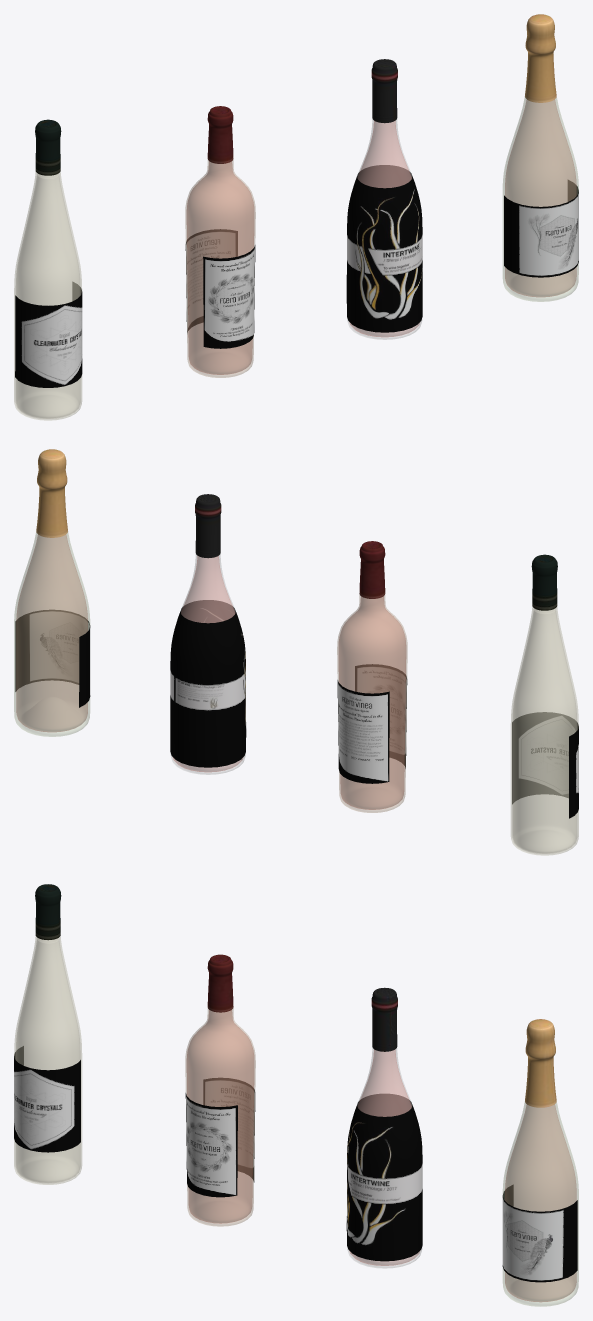
Rendered from wine_bottles_01.glb.
3 renders of one model, top to bottom at view 1: azimuth 30°, elevation 25°; view 2: azimuth 150°, elevation 25°; view 3: azimuth 330°, elevation 25°, orthographic.
Parts seen in each view (by area): view 1: wine_bottles_01_champagne, wine_bottles_01_alsace, wine_bottles_01_burgundy, wine_bottles_01_bordeaux; view 2: wine_bottles_01_champagne, wine_bottles_01_alsace, wine_bottles_01_burgundy, wine_bottles_01_bordeaux; view 3: wine_bottles_01_champagne, wine_bottles_01_alsace, wine_bottles_01_burgundy, wine_bottles_01_bordeaux.
Part boxes in pixels (bbox=[...]): wine_bottles_01_champagne: bbox=[503, 14, 578, 301]; wine_bottles_01_alsace: bbox=[14, 119, 82, 420]; wine_bottles_01_burgundy: bbox=[346, 59, 422, 339]; wine_bottles_01_bordeaux: bbox=[185, 106, 255, 377]; wine_bottles_01_champagne: bbox=[14, 449, 90, 736]; wine_bottles_01_alsace: bbox=[511, 554, 578, 855]; wine_bottles_01_burgundy: bbox=[170, 494, 246, 774]; wine_bottles_01_bordeaux: bbox=[337, 541, 407, 812]; wine_bottles_01_champagne: bbox=[502, 1019, 578, 1306]; wine_bottles_01_alsace: bbox=[14, 884, 81, 1184]; wine_bottles_01_burgundy: bbox=[346, 987, 422, 1268]; wine_bottles_01_bordeaux: bbox=[185, 954, 255, 1226].
Size of the model in its own units: 0.6763 by 0.3314 by 0.0806.
12 materials, 9 textured.
